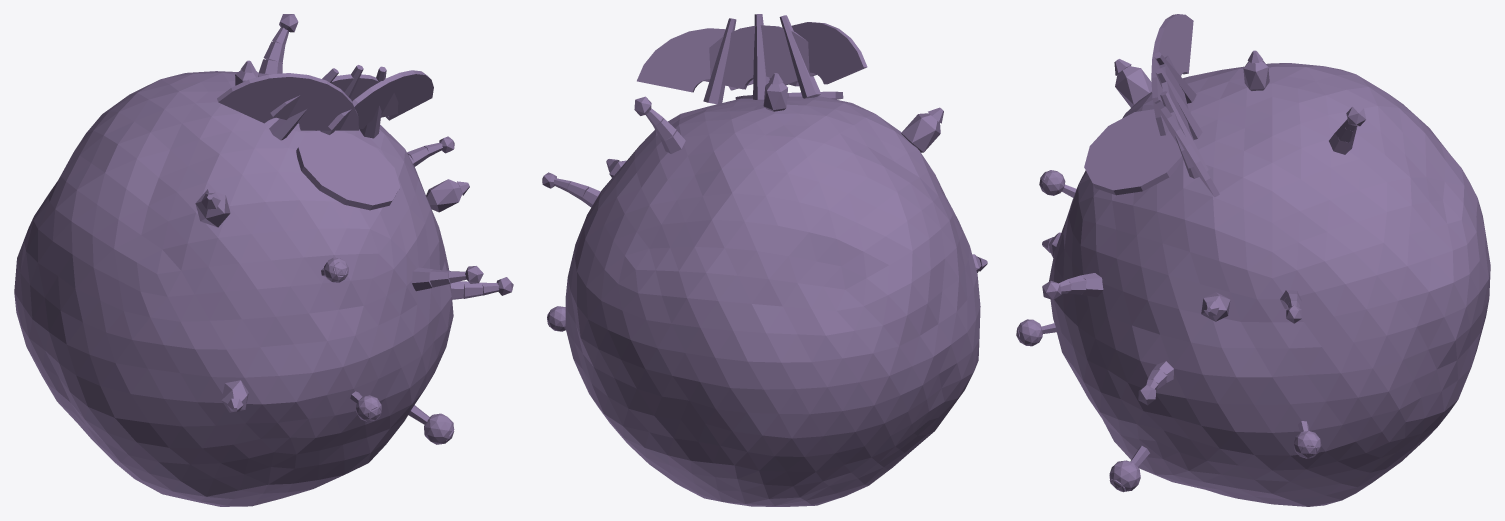
The model's file is Alien_07.fbx.
3 renders of one model, left to right at view 1: azimuth 30°, elevation 25°; view 2: azimuth 150°, elevation 25°; view 3: azimuth 270°, elevation 25°, orthographic. The views are drawn at different scales.
Visible parts, largest first — view 1: Alien_07; view 2: Alien_07; view 3: Alien_07.
Boxes of the visible parts, box(x1,y1,x2,y2) form: Alien_07: box(14, 14, 513, 506); Alien_07: box(542, 14, 987, 506); Alien_07: box(1016, 14, 1490, 506).
Bounding box in the file's own units: 6.7 × 6.95 × 6.45.
